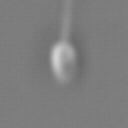normal: (55, 1, 79, 41)
